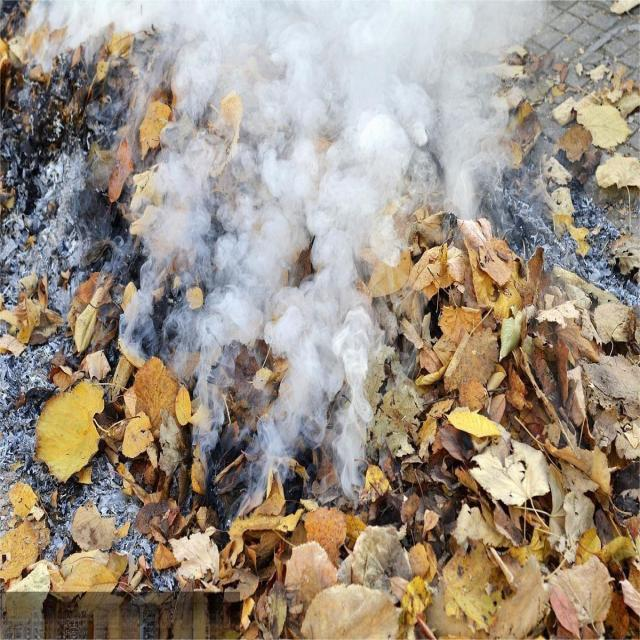Smoke: (126, 178, 382, 484), (155, 0, 510, 177)
